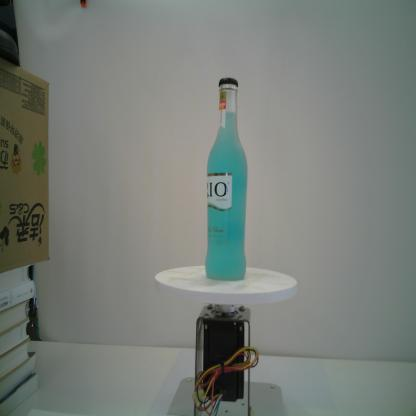Alcohol: (204, 76, 248, 282)
